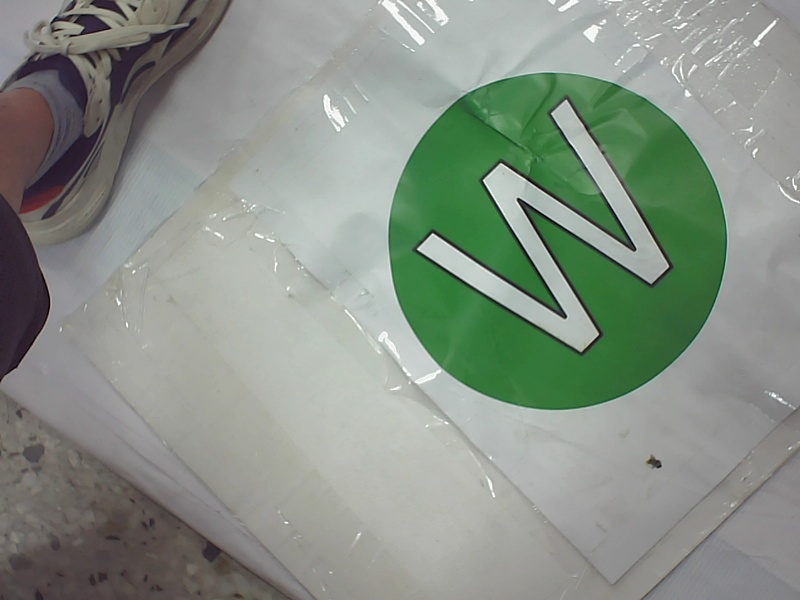areaB: (368, 65, 737, 409)
